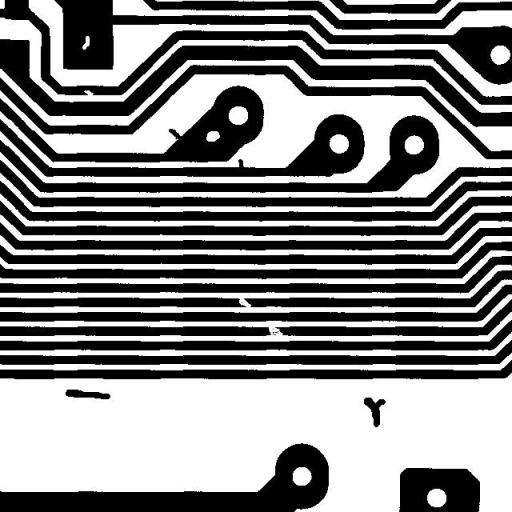copper: (356, 390, 393, 434), (58, 382, 118, 406)
mousebite: (76, 82, 101, 104)
open: (230, 287, 258, 316), (261, 318, 290, 344)
pin-hole: (198, 123, 228, 149), (74, 28, 97, 57)
spur: (161, 120, 191, 150), (230, 151, 254, 180)
